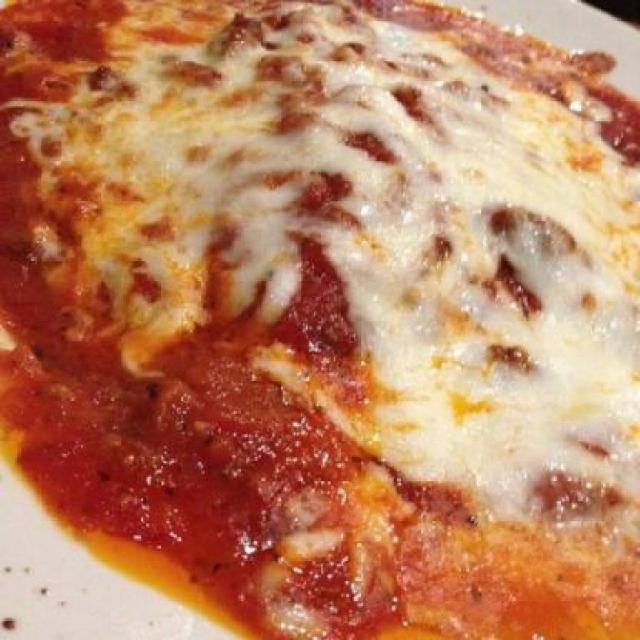Lasagna: (52, 28, 623, 610)
